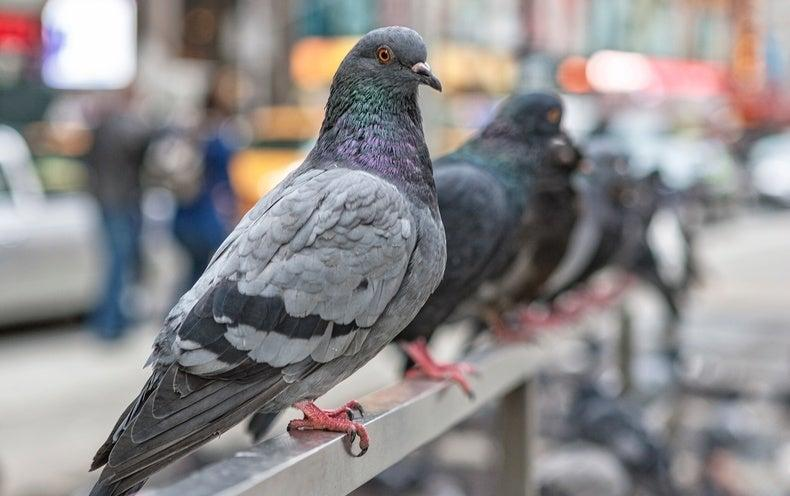Flying Rat: (101, 31, 440, 472), (410, 81, 562, 405)
